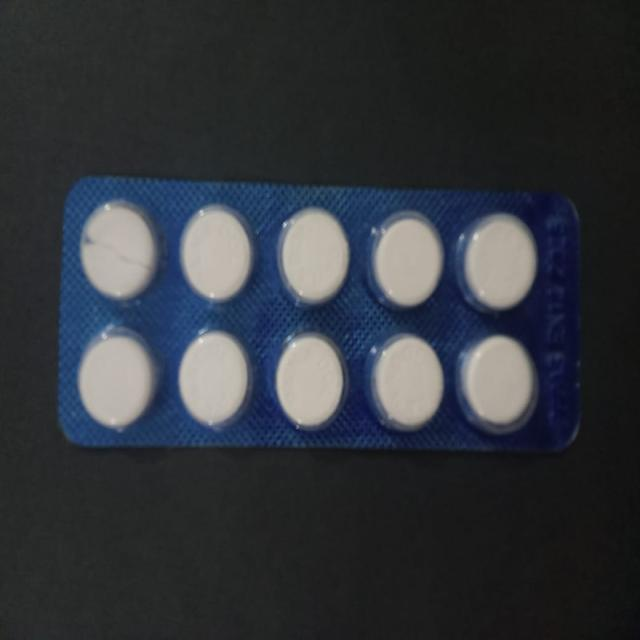defect: (77, 197, 162, 306)
